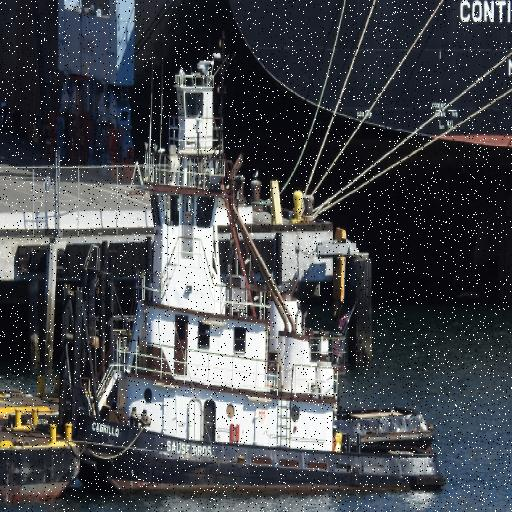tugboat: (57, 49, 451, 508)
